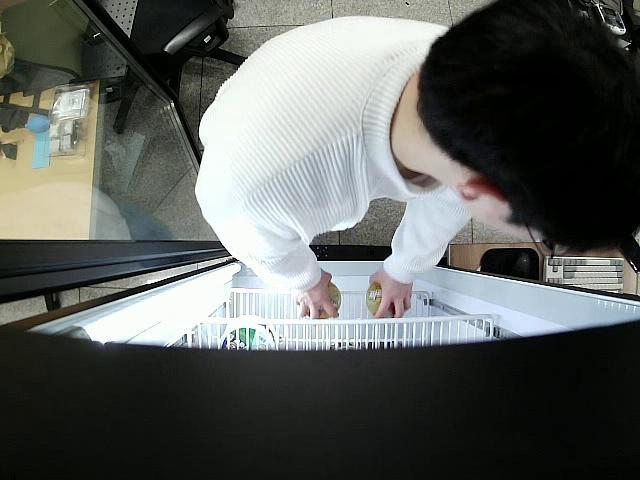04_chapagetti_S: (364, 280, 396, 316), (313, 284, 343, 318)
